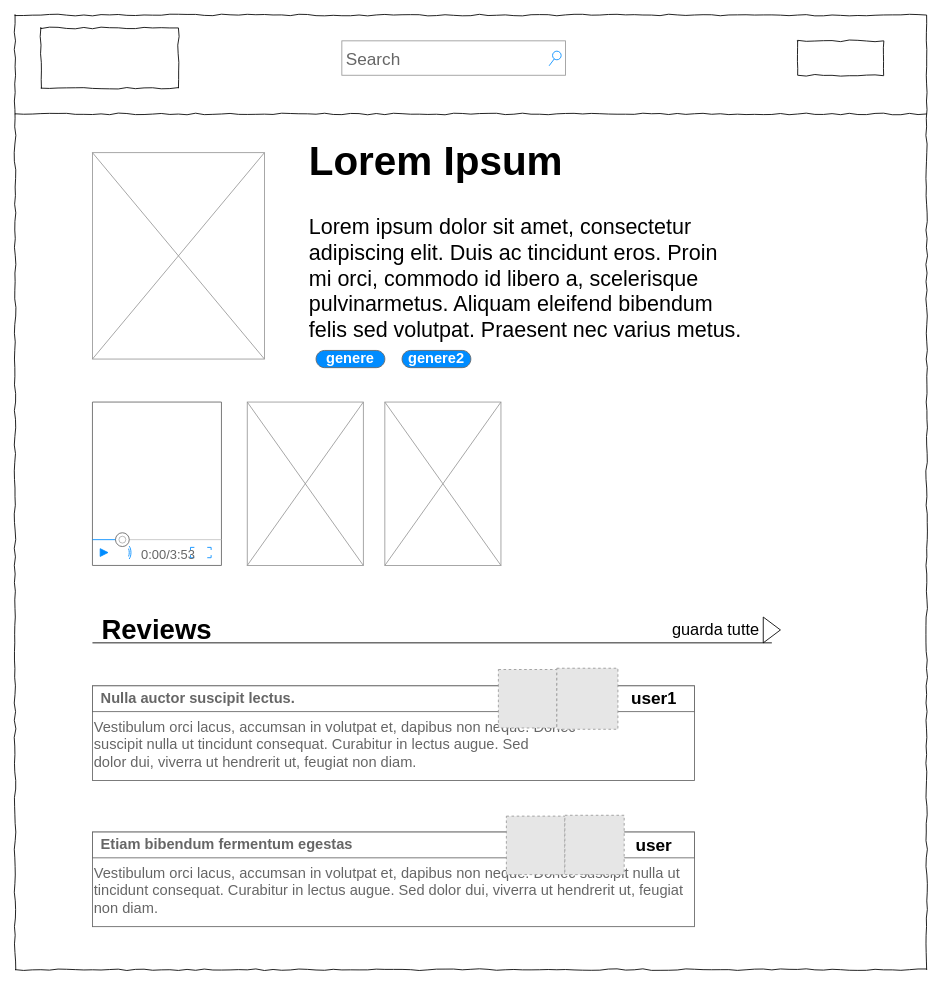
The diagram is 942 pixels wide and 985 high, and some of its shapes have lost their labels. Grey dashed boxes stand in for pictures. Each missing label, with the centre of its shape:
accedi: point (840, 57)
LOGO: point (109, 57)
